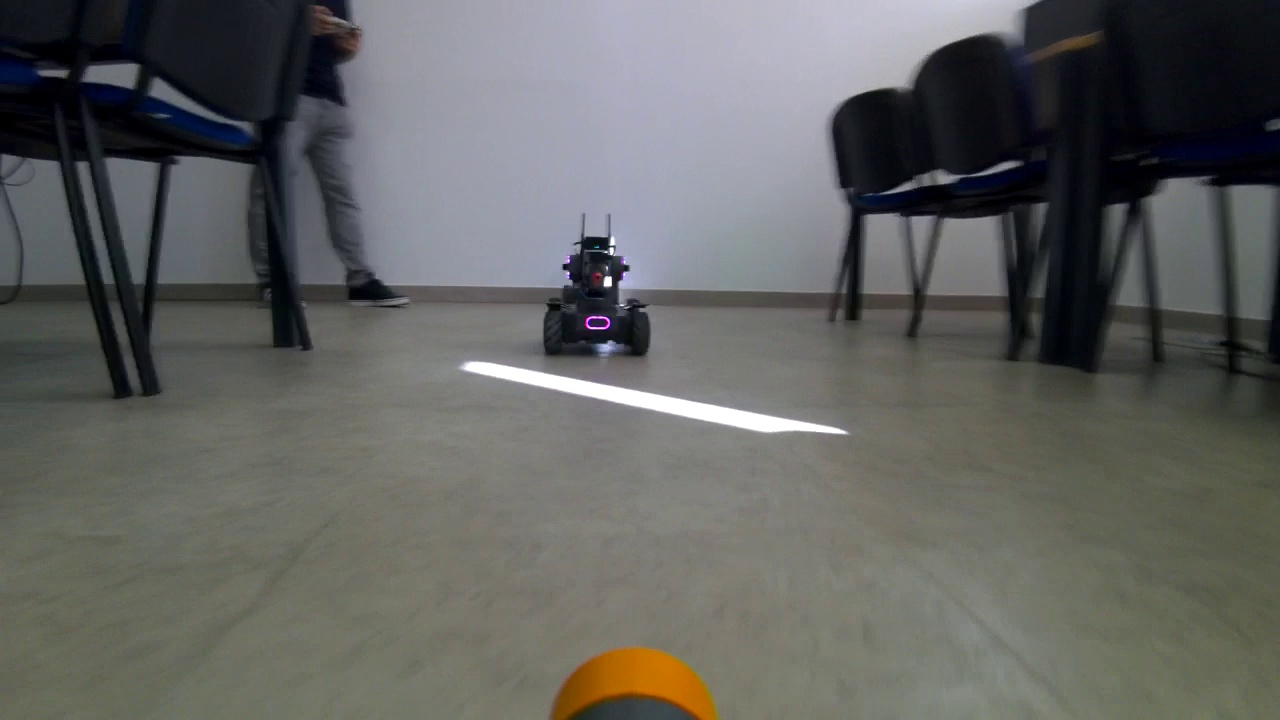robot: (533, 234, 652, 356)
